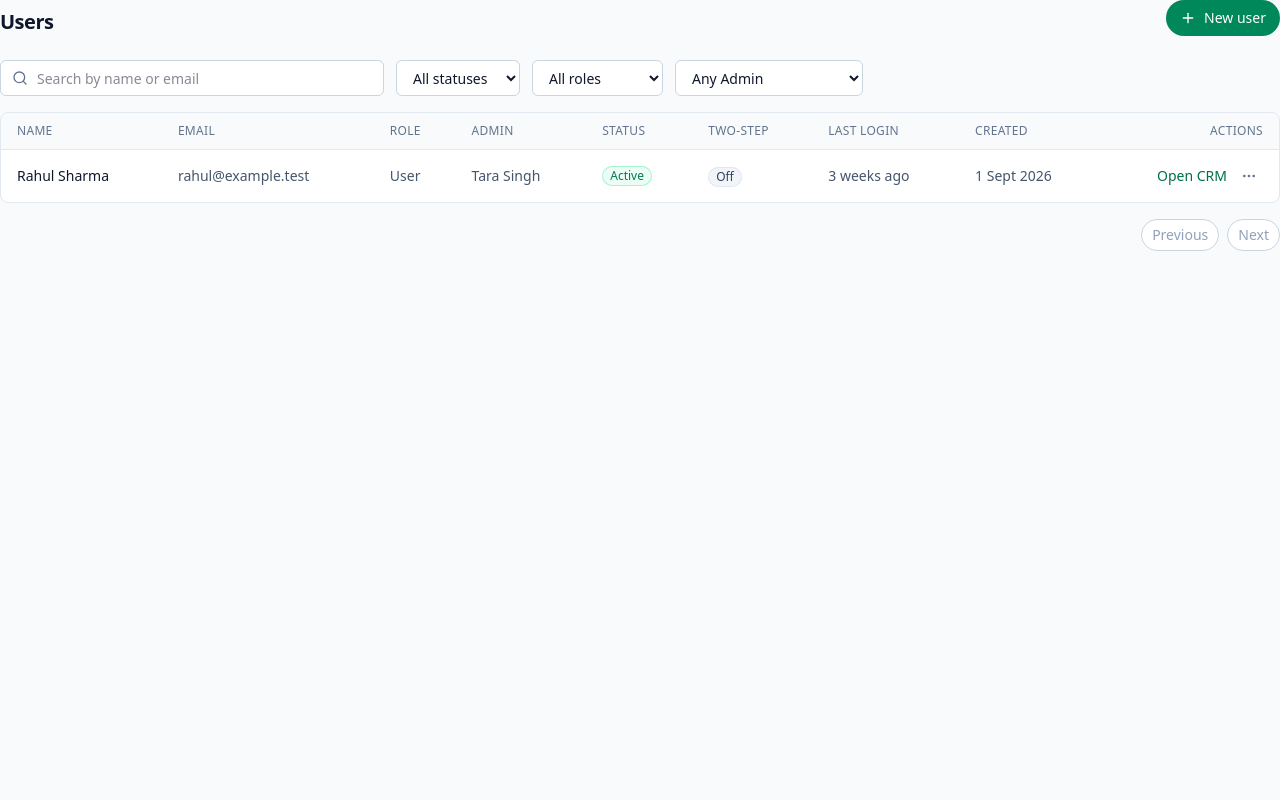
a Super admin › promotes a User to Admin (their own Admin is dropped by the server, so none is sent)
Click the button named "Actions for Rahul Sharma": click(1249, 176) [1233,160,1265,192]
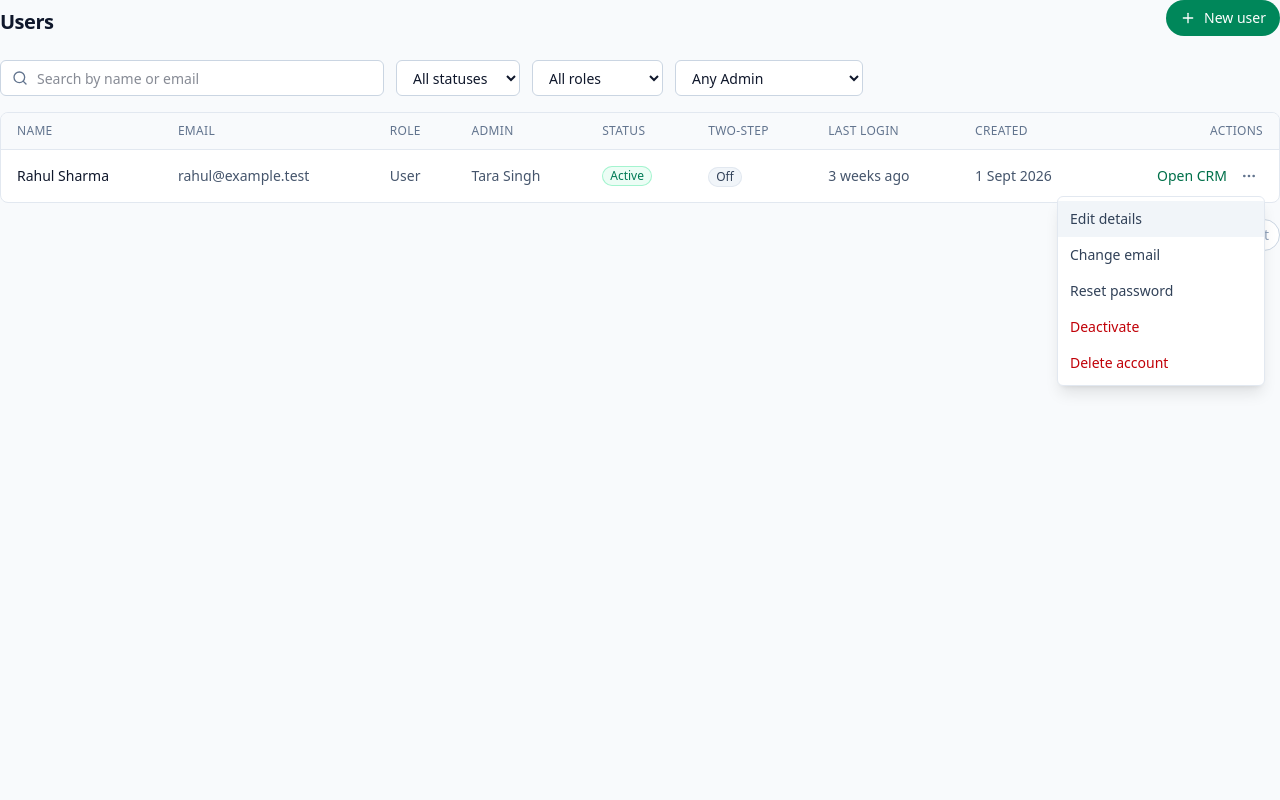
Click the menu item "Edit details": click(1161, 219) [1058,201,1264,237]
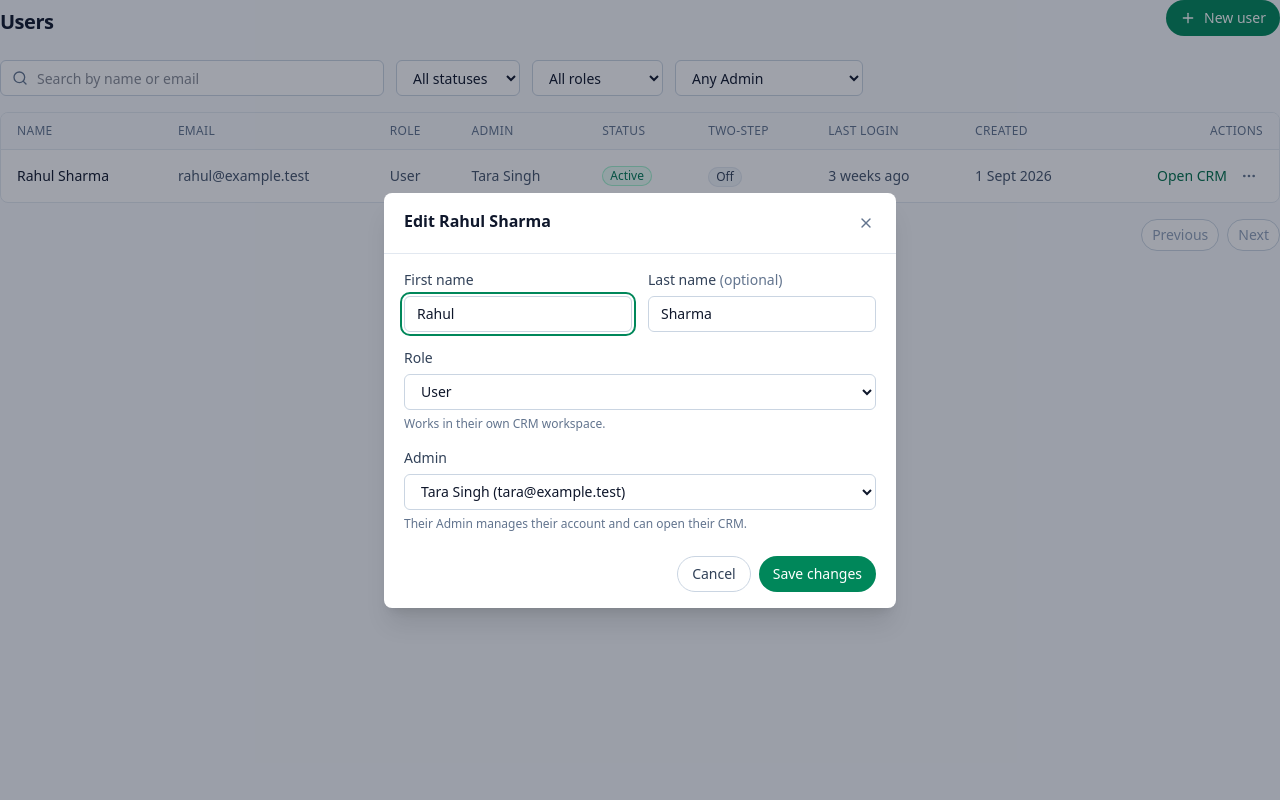
Select "Admin" in the dropdown labelled "Role": (640, 392) [404,374,876,410]
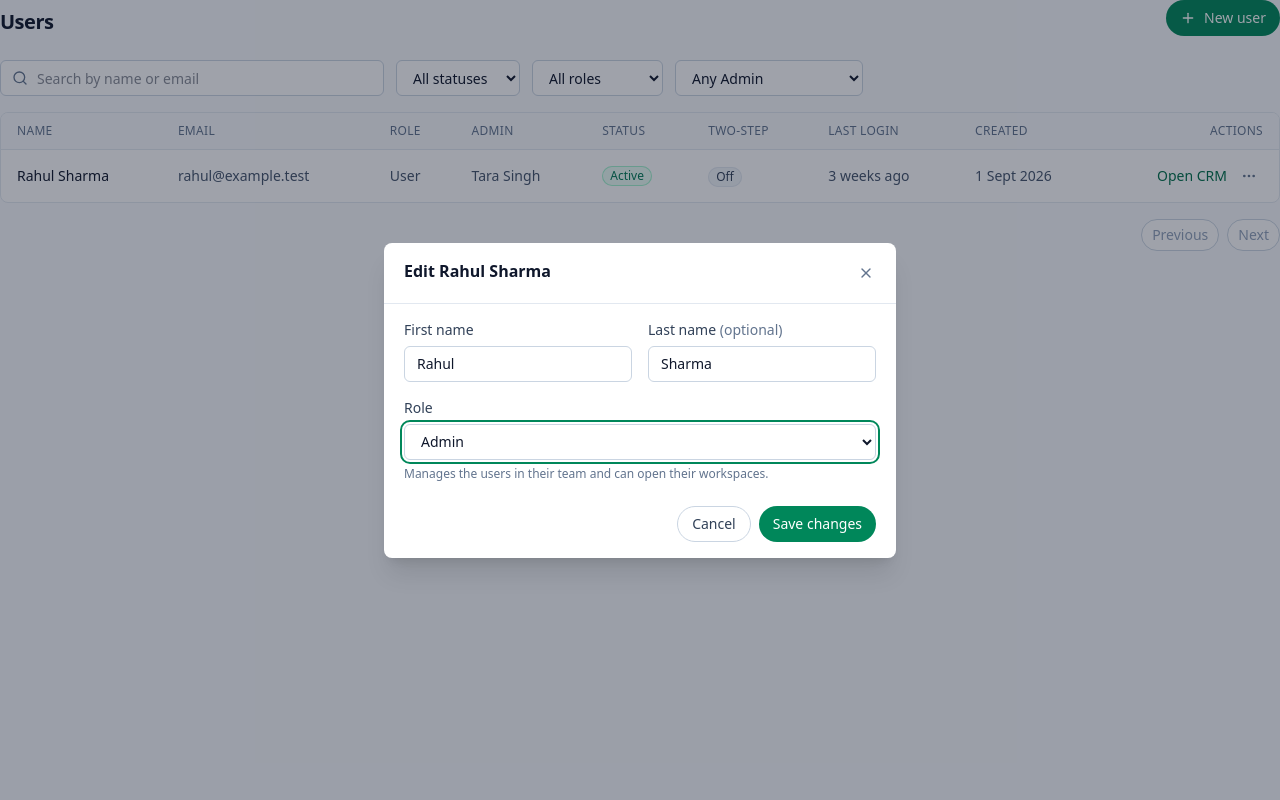
Click the button "Save changes": click(817, 524) [759,506,876,542]
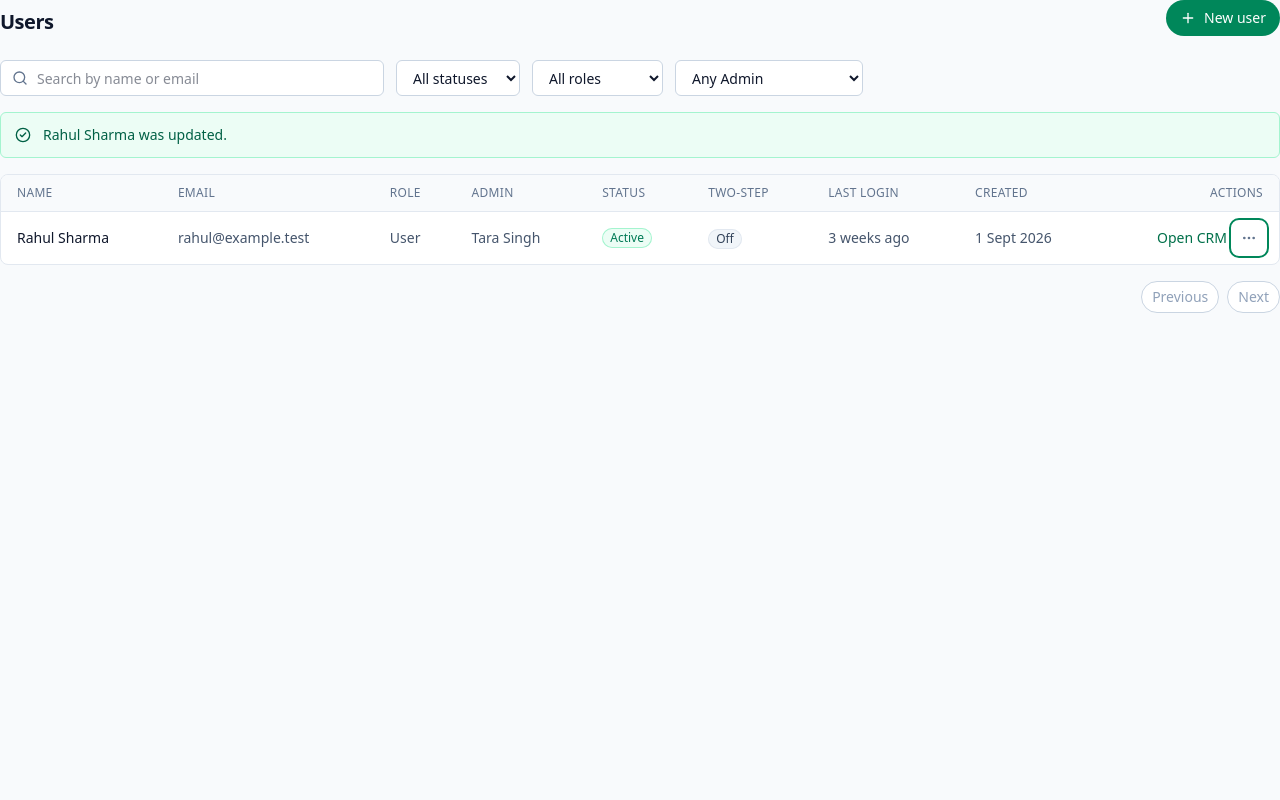
expect the dialog is gone: met
